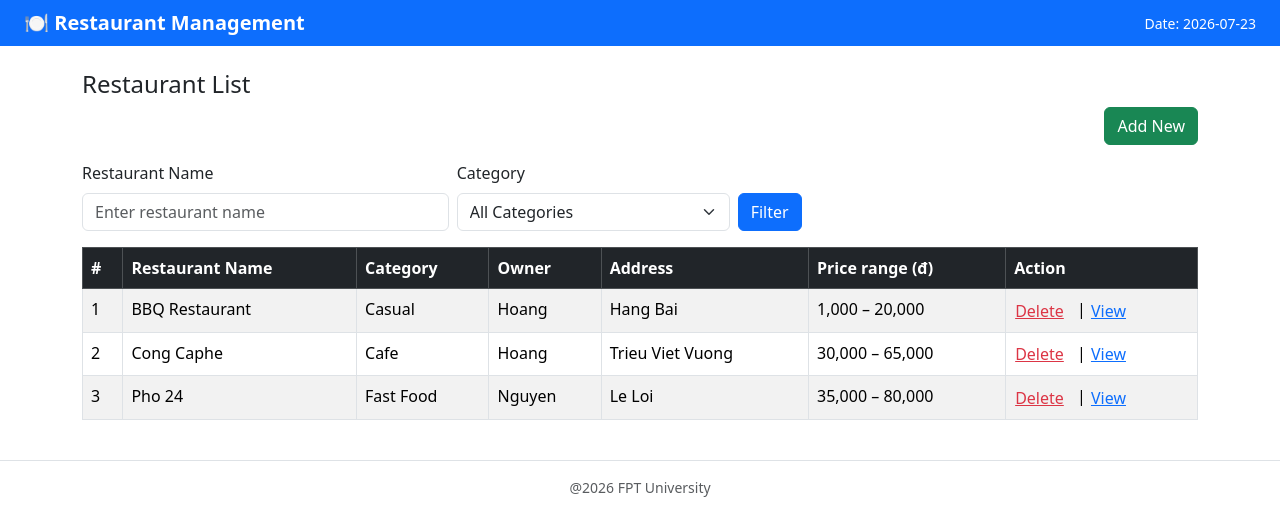
Test: RestaurantListPage — filter › hiển thị "No records found" khi không có kết quả
This screenshot has width=1280, height=514.
Expected: the text "BBQ Restaurant" is shown, [123,288,356,332]
Type "XYZXYZ" into the field with placeholder "Enter restaurant name" at (265, 212), box [82,193,449,231]
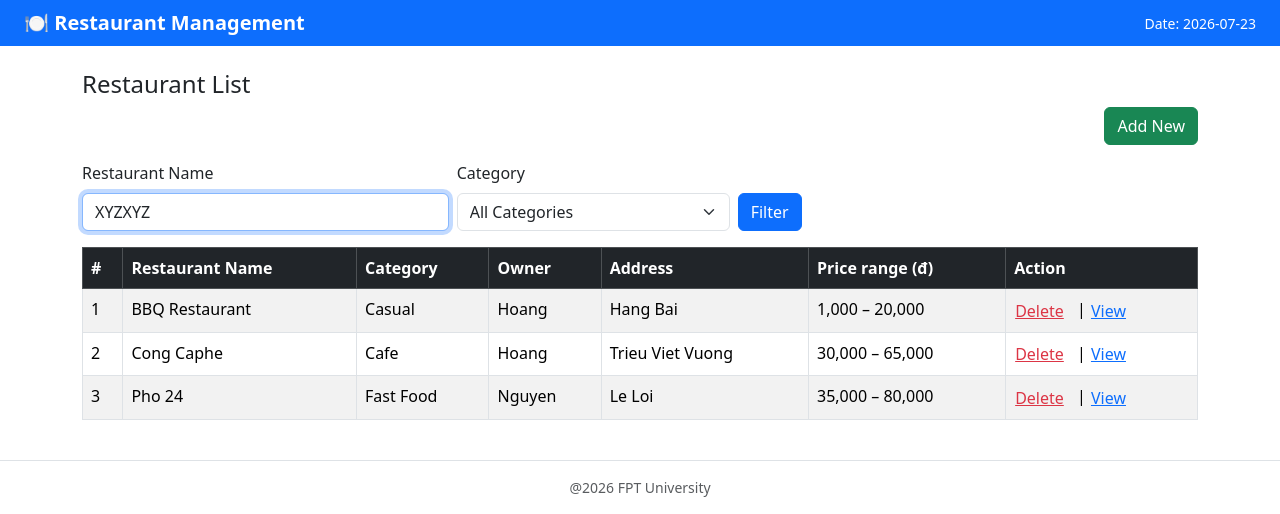
Click the button "Filter" at (770, 212), box [738,193,802,231]
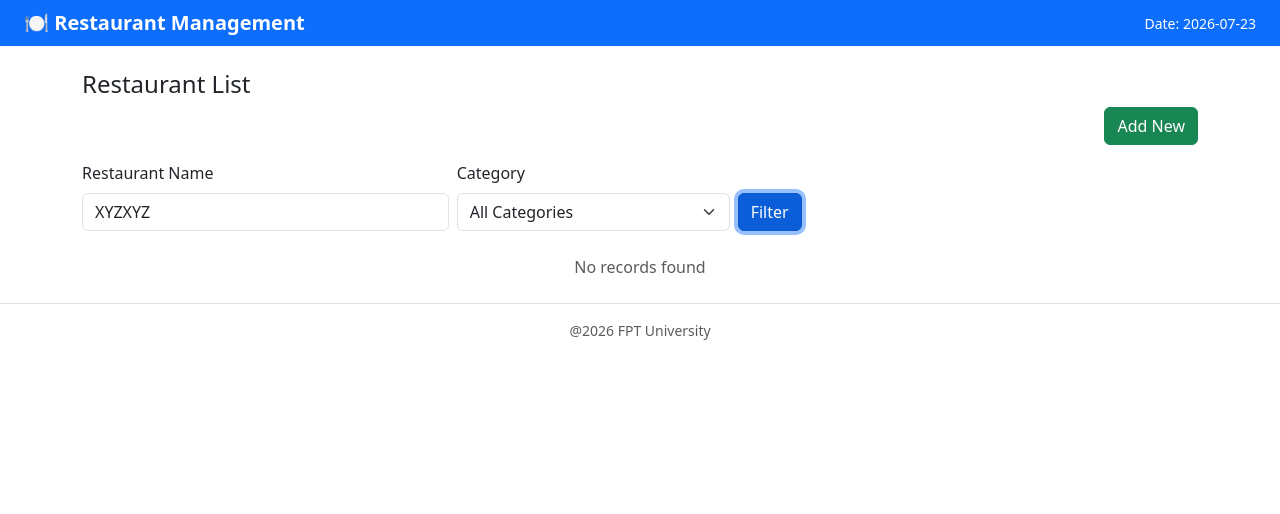
Expected: the text "No records found" is shown, [574,256,706,278]
